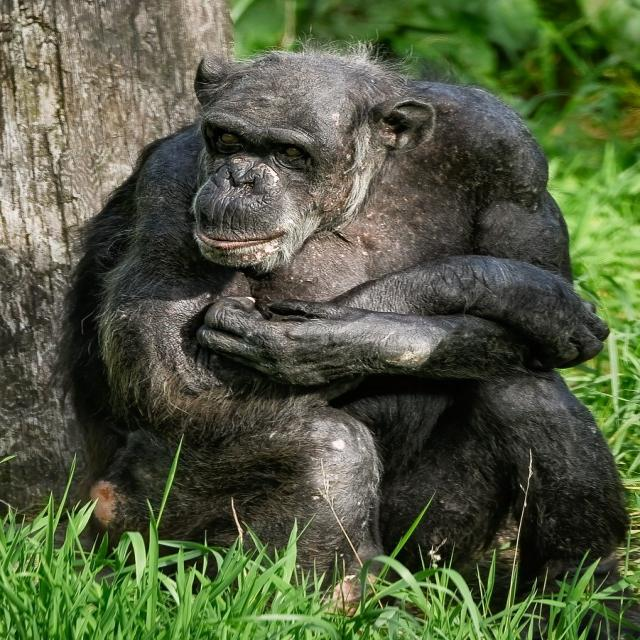Chimpanzee: (73, 39, 626, 578)
